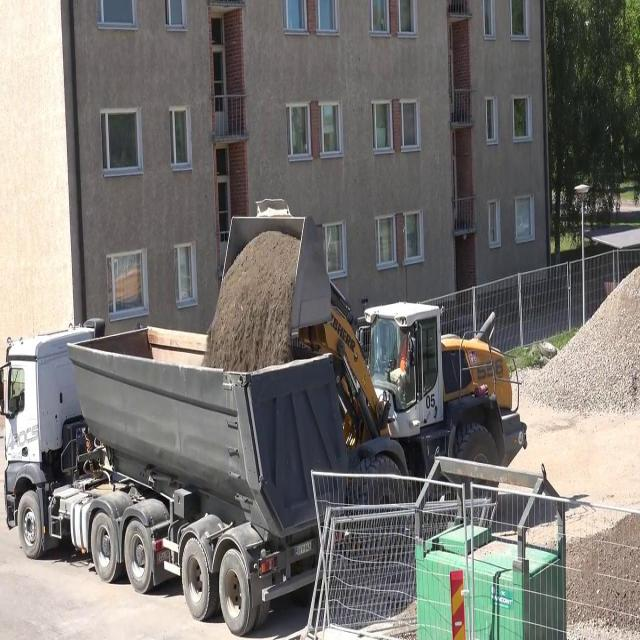Dump Truck: (0, 316, 350, 636)
Loader: (221, 196, 529, 520)
